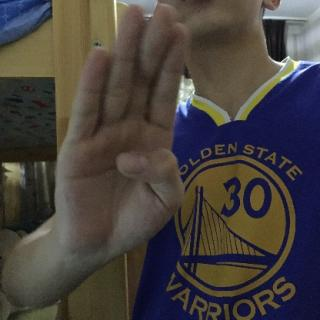KAAF: (57, 0, 201, 266)
